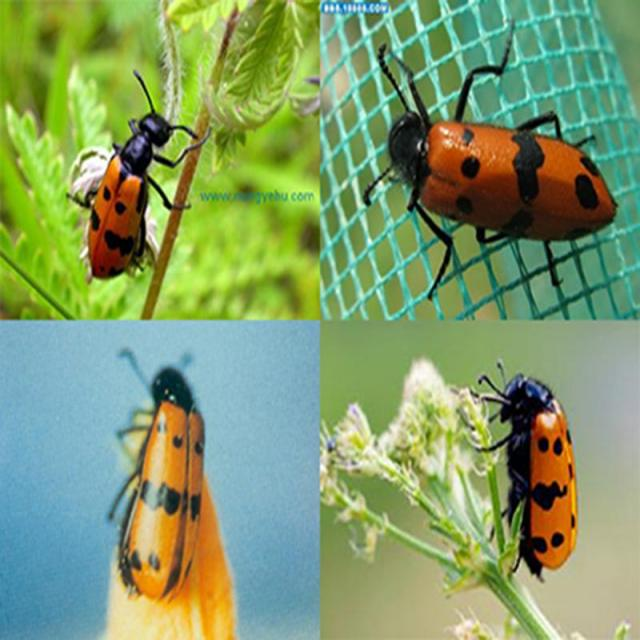BlisterBeetle-Adult-: (356, 18, 614, 294), (81, 64, 218, 290), (104, 336, 215, 613), (475, 354, 586, 595)
